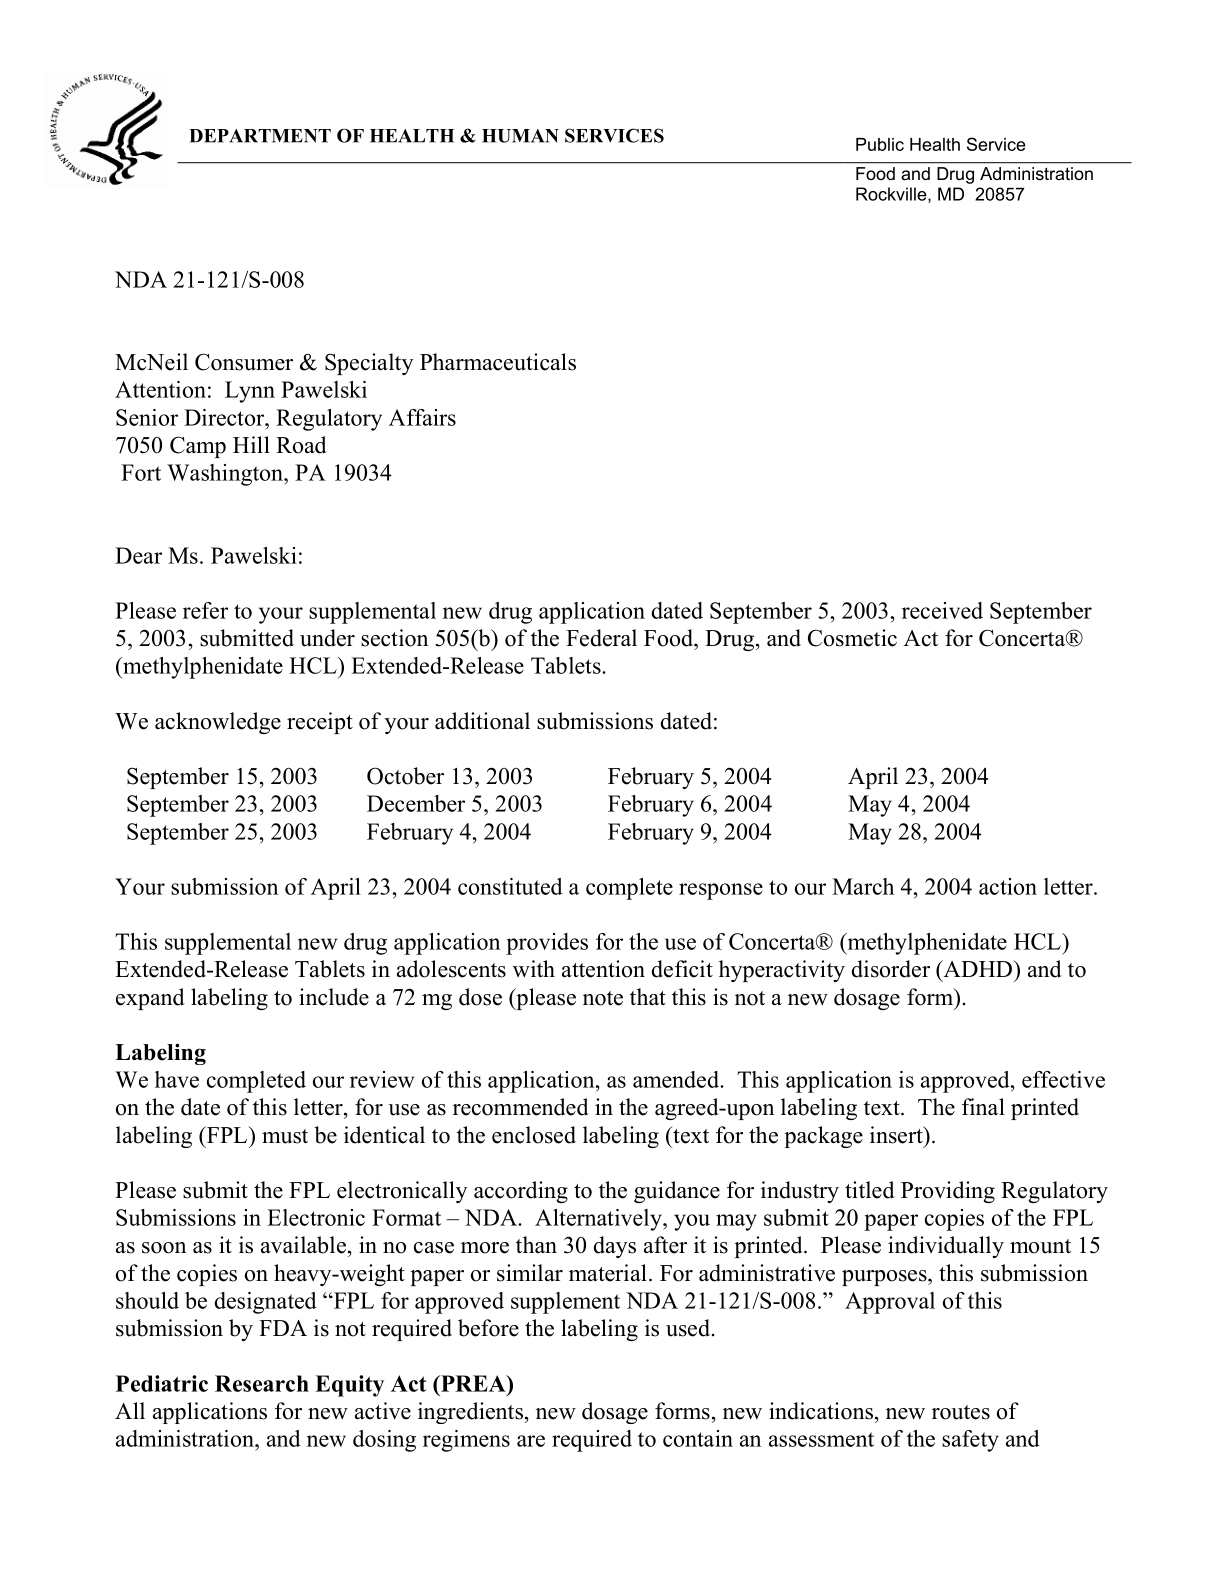nolines: (123, 759, 990, 847)
